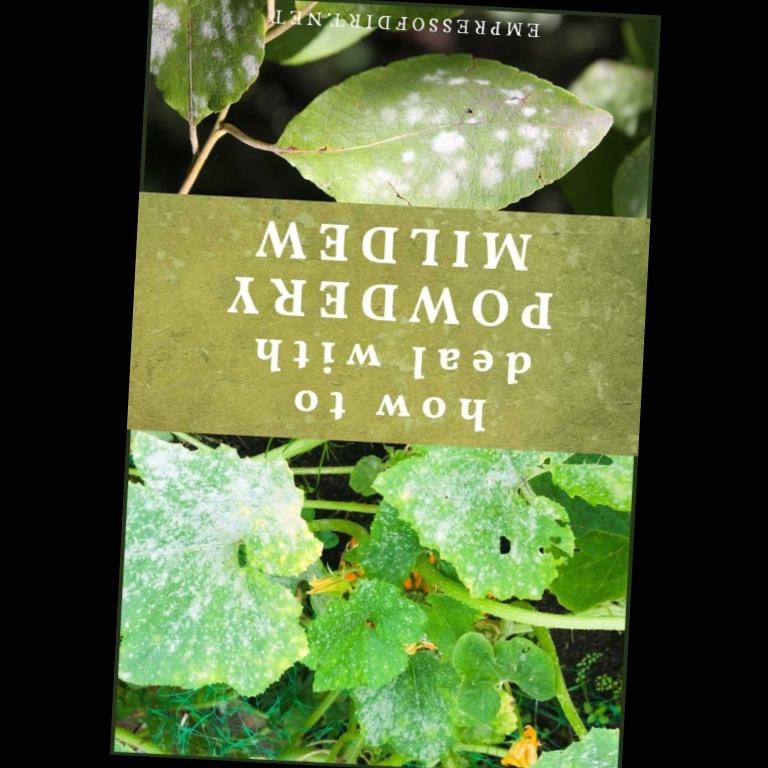powdery-mildew: (378, 68, 525, 184)
